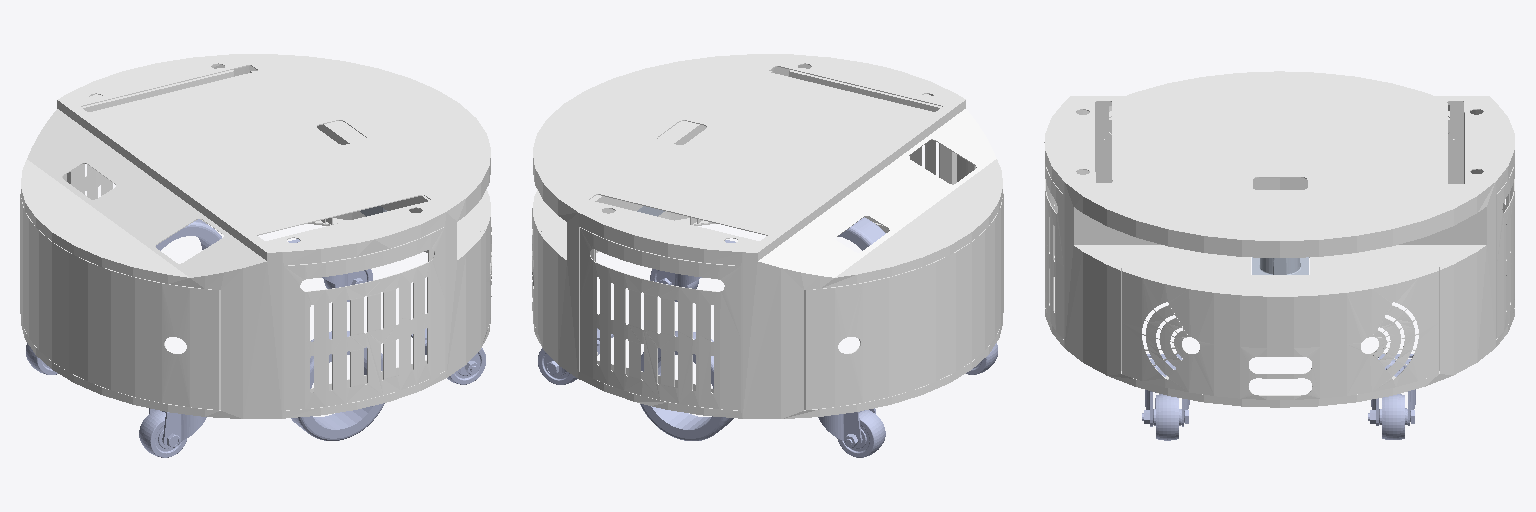
URDF robot description (tjark_inspection):
<?xml version="1.0" encoding="utf-8"?>
<!-- This URDF was automatically created by SolidWorks to URDF Exporter! Originally created by [author] ([email redacted]) 
     Commit Version: 1.6.0-4-g7f85cfe  Build Version: 1.6.7995.38578
     For more information, please see http://wiki.ros.org/sw_urdf_exporter -->
<robot
  name="tjark_inspection">
  <link
    name="base_link">
    <inertial>
      <origin
        xyz="0.0018956 -0.0084099 0.072818"
        rpy="0 0 0" />
      <mass
        value="6.1208" />
      <inertia
        ixx="0.033042"
        ixy="-4.2406E-06"
        ixz="-2.8057E-05"
        iyy="0.026965"
        iyz="-7.7503E-06"
        izz="0.053547" />
    </inertial>
    <visual>
      <origin
        xyz="0 0 0"
        rpy="0 0 0" />
      <geometry>
        <mesh
          filename="package://tjark_inspection/meshes/base_link.STL" />
      </geometry>
      <material
        name="">
        <color
          rgba="0.80784 0.84314 0.90588 1" />
      </material>
    </visual>
    <collision>
      <origin
        xyz="0 0 0"
        rpy="0 0 0" />
      <geometry>
        <mesh
          filename="package://tjark_inspection/meshes/base_link.STL" />
      </geometry>
    </collision>
  </link>
  <link
    name="wheel_right">
    <inertial>
      <origin
        xyz="3.6776E-15 0.022584 0.00064847"
        rpy="0 0 0" />
      <mass
        value="0.15974" />
      <inertia
        ixx="0.00022521"
        ixy="4.0356E-19"
        ixz="8.0955E-20"
        iyy="0.00041908"
        iyz="5.5667E-06"
        izz="0.00022537" />
    </inertial>
    <visual>
      <origin
        xyz="0 0 0"
        rpy="0 0 0" />
      <geometry>
        <mesh
          filename="package://tjark_inspection/meshes/wheel_right.STL" />
      </geometry>
      <material
        name="">
        <color
          rgba="0.79216 0.81961 0.93333 1" />
      </material>
    </visual>
    <collision>
      <origin
        xyz="0 0 0"
        rpy="0 0 0" />
      <geometry>
        <mesh
          filename="package://tjark_inspection/meshes/wheel_right.STL" />
      </geometry>
    </collision>
  </link>
  <joint
    name="right_to_base"
    type="continuous">
    <origin
      xyz="0.00044999 -0.19243 -0.012401"
      rpy="0 0 0.0020937" />
    <parent
      link="base_link" />
    <child
      link="wheel_right" />
    <axis
      xyz="0 1 0" />
  </joint>
  <link
    name="wheel_left">
    <inertial>
      <origin
        xyz="4.5242E-15 -0.022584 0.00064847"
        rpy="0 0 0" />
      <mass
        value="0.15974" />
      <inertia
        ixx="0.00022521"
        ixy="2.9488E-21"
        ixz="-1.5727E-20"
        iyy="0.00041908"
        iyz="-5.5667E-06"
        izz="0.00022537" />
    </inertial>
    <visual>
      <origin
        xyz="0 0 0"
        rpy="0 0 0" />
      <geometry>
        <mesh
          filename="package://tjark_inspection/meshes/wheel_left.STL" />
      </geometry>
      <material
        name="">
        <color
          rgba="0.79216 0.81961 0.93333 1" />
      </material>
    </visual>
    <collision>
      <origin
        xyz="0 0 0"
        rpy="0 0 0" />
      <geometry>
        <mesh
          filename="package://tjark_inspection/meshes/wheel_left.STL" />
      </geometry>
    </collision>
  </link>
  <joint
    name="left_to_base"
    type="continuous">
    <origin
      xyz="-0.00035578 0.19242 -0.012401"
      rpy="0 0 0.0020937" />
    <parent
      link="base_link" />
    <child
      link="wheel_left" />
    <axis
      xyz="0 1 0" />
  </joint>
  <link
    name="wheel_lf">
    <inertial>
      <origin
        xyz="0.018484 -0.00012732 -0.030448"
        rpy="0 0 0" />
      <mass
        value="0.076076" />
      <inertia
        ixx="4.0043E-05"
        ixy="8.24E-08"
        ixz="1.5107E-05"
        iyy="5.5058E-05"
        iyz="-1.1589E-07"
        izz="3.5163E-05" />
    </inertial>
    <visual>
      <origin
        xyz="0 0 0"
        rpy="0 0 0" />
      <geometry>
        <mesh
          filename="package://tjark_inspection/meshes/wheel_lf.STL" />
      </geometry>
      <material
        name="">
        <color
          rgba="0.79216 0.81961 0.93333 1" />
      </material>
    </visual>
    <collision>
      <origin
        xyz="0 0 0"
        rpy="0 0 0" />
      <geometry>
        <mesh
          filename="package://tjark_inspection/meshes/wheel_lf.STL" />
      </geometry>
    </collision>
  </link>
  <joint
    name="lf_to_base"
    type="fixed">
    <origin
      xyz="0.1558 0.12032 -0.0025"
      rpy="0 0 0.0020943" />
    <parent
      link="base_link" />
    <child
      link="wheel_lf" />
    <axis
      xyz="0 0 0" />
  </joint>
  <link
    name="wheel_rf">
    <inertial>
      <origin
        xyz="0.018484 -0.00012732 -0.030448"
        rpy="0 0 0" />
      <mass
        value="0.076076" />
      <inertia
        ixx="4.0043E-05"
        ixy="8.24E-08"
        ixz="1.5107E-05"
        iyy="5.5058E-05"
        iyz="-1.1589E-07"
        izz="3.5163E-05" />
    </inertial>
    <visual>
      <origin
        xyz="0 0 0"
        rpy="0 0 0" />
      <geometry>
        <mesh
          filename="package://tjark_inspection/meshes/wheel_rf.STL" />
      </geometry>
      <material
        name="">
        <color
          rgba="0.79216 0.81961 0.93333 1" />
      </material>
    </visual>
    <collision>
      <origin
        xyz="0 0 0"
        rpy="0 0 0" />
      <geometry>
        <mesh
          filename="package://tjark_inspection/meshes/wheel_rf.STL" />
      </geometry>
    </collision>
  </link>
  <joint
    name="rf_to_base"
    type="fixed">
    <origin
      xyz="0.1563 -0.11968 -0.0025"
      rpy="0 0 0.0020943" />
    <parent
      link="base_link" />
    <child
      link="wheel_rf" />
    <axis
      xyz="0 0 0" />
  </joint>
  <link
    name="wheel_lb">
    <inertial>
      <origin
        xyz="-0.018484 0.00012732 -0.030448"
        rpy="0 0 0" />
      <mass
        value="0.076076" />
      <inertia
        ixx="4.0043E-05"
        ixy="8.24E-08"
        ixz="-1.5107E-05"
        iyy="5.5058E-05"
        iyz="1.1589E-07"
        izz="3.5163E-05" />
    </inertial>
    <visual>
      <origin
        xyz="0 0 0"
        rpy="0 0 0" />
      <geometry>
        <mesh
          filename="package://tjark_inspection/meshes/wheel_lb.STL" />
      </geometry>
      <material
        name="">
        <color
          rgba="0.79216 0.81961 0.93333 1" />
      </material>
    </visual>
    <collision>
      <origin
        xyz="0 0 0"
        rpy="0 0 0" />
      <geometry>
        <mesh
          filename="package://tjark_inspection/meshes/wheel_lb.STL" />
      </geometry>
    </collision>
  </link>
  <joint
    name="lb_to_base"
    type="fixed">
    <origin
      xyz="-0.1562 0.11967 -0.0025"
      rpy="0 0 0.0020943" />
    <parent
      link="base_link" />
    <child
      link="wheel_lb" />
    <axis
      xyz="0 0 0" />
  </joint>
  <link
    name="wheel_rb">
    <inertial>
      <origin
        xyz="-0.018484 0.00012732 -0.030448"
        rpy="0 0 0" />
      <mass
        value="0.076076" />
      <inertia
        ixx="4.0043E-05"
        ixy="8.24E-08"
        ixz="-1.5107E-05"
        iyy="5.5058E-05"
        iyz="1.1589E-07"
        izz="3.5163E-05" />
    </inertial>
    <visual>
      <origin
        xyz="0 0 0"
        rpy="0 0 0" />
      <geometry>
        <mesh
          filename="package://tjark_inspection/meshes/wheel_rb.STL" />
      </geometry>
      <material
        name="">
        <color
          rgba="0.79216 0.81961 0.93333 1" />
      </material>
    </visual>
    <collision>
      <origin
        xyz="0 0 0"
        rpy="0 0 0" />
      <geometry>
        <mesh
          filename="package://tjark_inspection/meshes/wheel_rb.STL" />
      </geometry>
    </collision>
  </link>
  <joint
    name="rb_to_base"
    type="fixed">
    <origin
      xyz="-0.1557 -0.12033 -0.0025"
      rpy="0 0 0.0020943" />
    <parent
      link="base_link" />
    <child
      link="wheel_rb" />
    <axis
      xyz="0 0 0" />
  </joint>
  <link
    name="laser_link">
    <inertial>
      <origin
        xyz="-0.0036015 5.8764E-09 -0.030808"
        rpy="0 0 0" />
      <mass
        value="0.21915" />
      <inertia
        ixx="0.00016497"
        ixy="1.8787E-10"
        ixz="-7.1144E-07"
        iyy="0.00017063"
        iyz="-5.4041E-11"
        izz="0.00011099" />
    </inertial>
    <visual>
      <origin
        xyz="0 0 0"
        rpy="0 0 0" />
      <geometry>
        <mesh
          filename="package://tjark_inspection/meshes/laser_link.STL" />
      </geometry>
      <material
        name="">
        <color
          rgba="0.80784 0.84314 0.90588 1" />
      </material>
    </visual>
    <collision>
      <origin
        xyz="0 0 0"
        rpy="0 0 0" />
      <geometry>
        <mesh
          filename="package://tjark_inspection/meshes/laser_link.STL" />
      </geometry>
    </collision>
  </link>
  <joint
    name="laser_to_base"
    type="fixed">
    <origin
      xyz="0.16786 0.00034612 0.14562"
      rpy="0 0 3.14" />
    <parent
      link="base_link" />
    <child
      link="laser_link" />
    <axis
      xyz="0 0 0" />
  </joint>
  
  <link
    name="shell_link">
    <inertial>
      <origin
        xyz="0 0 0"
        rpy="0 0 0" />
      <mass
        value="0" />
      <inertia
        ixx="0"
        ixy="0"
        ixz="0"
        iyy="0"
        iyz="0"
        izz="0" />
    </inertial>
    <visual>
      <origin
        xyz="0 0 0"
        rpy="0 0 0" />
      <geometry>
        <mesh
          filename="package://tjark_inspection/meshes/shell_link.STL" />
      </geometry>
      <material
        name="">
        <color
          rgba="1 1 1 1" />
      </material>
    </visual>
    <collision>
      <origin
        xyz="0 0 0"
        rpy="0 0 0" />
      <geometry>
        <mesh
          filename="package://tjark_inspection/meshes/shell_link.STL" />
      </geometry>
    </collision>
  </link>
  <joint
    name="shell_to_base"
    type="fixed">
    <origin
      xyz="0.023809 4.4525E-05 0.093948"
      rpy="0 0 0.0020937" />
    <parent
      link="base_link" />
    <child
      link="shell_link" />
    <axis
      xyz="0 0 0" />
  </joint>
</robot>

--- What the picture shows (computed from the rendered views, not written in the file) ---
The picture shows the robot from 3 angles, left to right: view 1: azimuth 30°, elevation 25°; view 2: azimuth 150°, elevation 25°; view 3: azimuth 270°, elevation 25°; orthographic projection.
Model tjark_inspection with 9 links and 8 joints (2 continuous, 6 fixed), rooted at base_link, posed all joints at 0.
Links seen in each view (by area): view 1: shell_link, wheel_rb, wheel_right, wheel_left, wheel_rf, wheel_lf; view 2: shell_link, wheel_lb, wheel_left, wheel_right, wheel_lf, wheel_rf; view 3: shell_link, wheel_rf, wheel_lf, laser_link.
Boxes of the visible links, bbox=[...] form: shell_link: bbox=[20, 54, 491, 418]; wheel_rb: bbox=[139, 408, 206, 457]; wheel_right: bbox=[291, 331, 384, 440]; wheel_left: bbox=[156, 219, 221, 250]; wheel_rf: bbox=[411, 328, 485, 384]; wheel_lf: bbox=[288, 239, 372, 301]; shell_link: bbox=[532, 54, 1003, 418]; wheel_lb: bbox=[818, 408, 885, 457]; wheel_left: bbox=[640, 331, 733, 440]; wheel_right: bbox=[838, 217, 885, 250]; wheel_lf: bbox=[538, 328, 613, 384]; wheel_rf: bbox=[650, 240, 735, 301]; shell_link: bbox=[1044, 71, 1514, 407]; wheel_rf: bbox=[1142, 354, 1189, 440]; wheel_lf: bbox=[1368, 354, 1415, 439]; laser_link: bbox=[1252, 257, 1308, 274].
Bounding box of the posed robot: 0.5 × 0.5 × 0.2623 m (x, y, z).
Meshes: 9 distinct files referenced, 8 mesh visuals loaded (8 binary STL); not drawn: 1 (reference not matched to a file when rendering).
